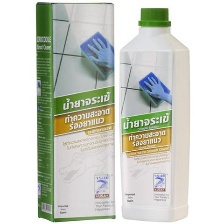book: (32, 0, 118, 224)
cleaning_solution: (118, 3, 193, 223)
